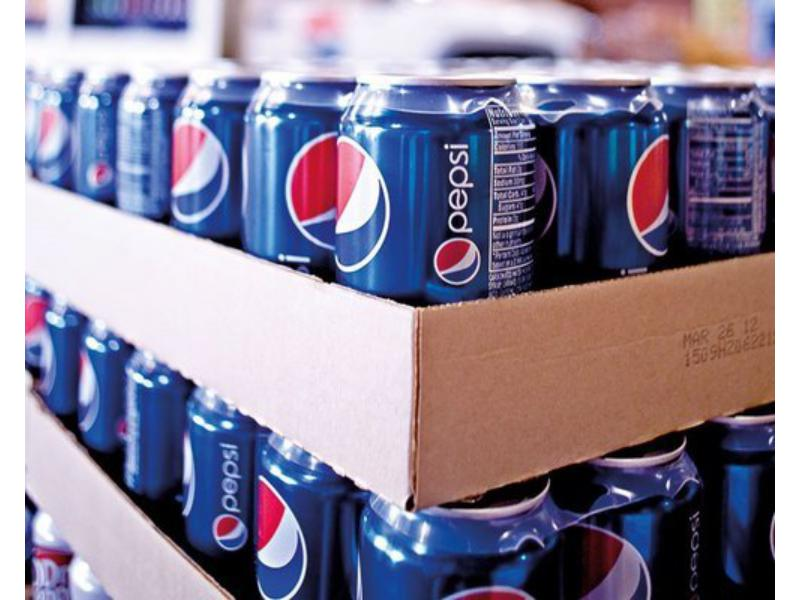can: (341, 65, 532, 311), (533, 71, 673, 292), (572, 439, 705, 600), (252, 62, 344, 277), (260, 417, 356, 600), (680, 78, 766, 275), (183, 377, 251, 585), (172, 65, 244, 248), (123, 341, 181, 508), (121, 63, 172, 229)
